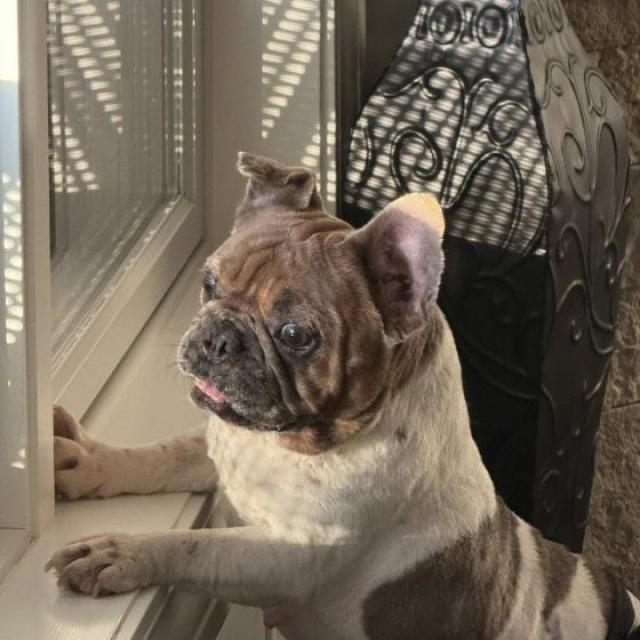french_bulldog_dog: (164, 135, 456, 478)
